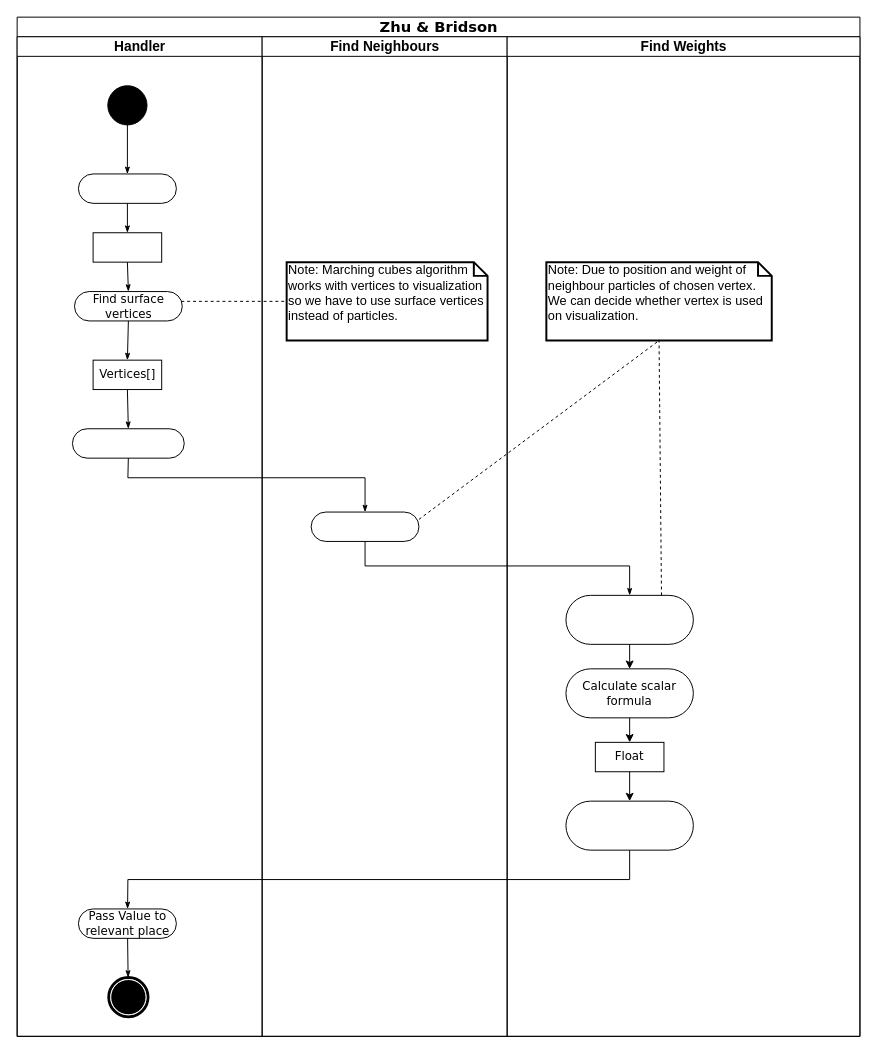
This 877x1054 diagram has some shape labels left out. Each missing label, with the centre of its shape:
Calculate weight of neighbour particles: [629,619]
Find neighbours in a range: [364,526]
Get Surface Particle: [126,188]
Pos[]: [127,247]
Send Constant: [629,825]
Send vertices: [127,443]
